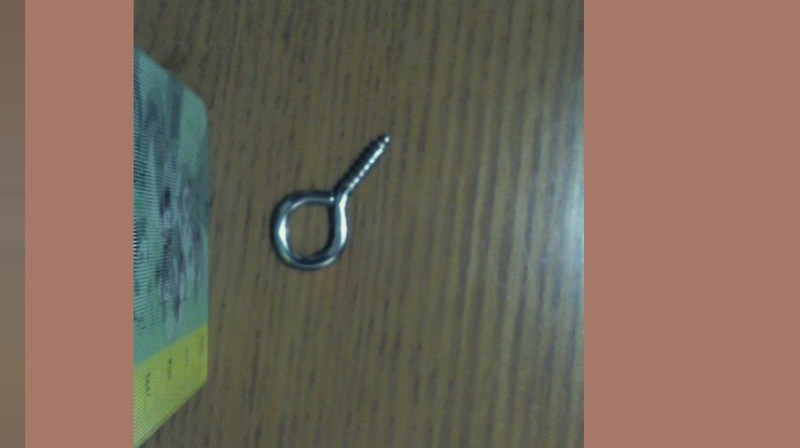O001: (265, 130, 396, 276)
